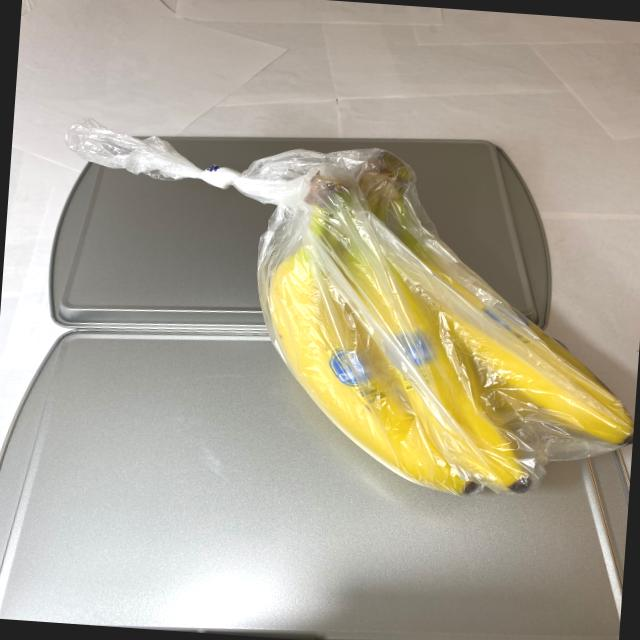banana: (230, 134, 640, 529)
